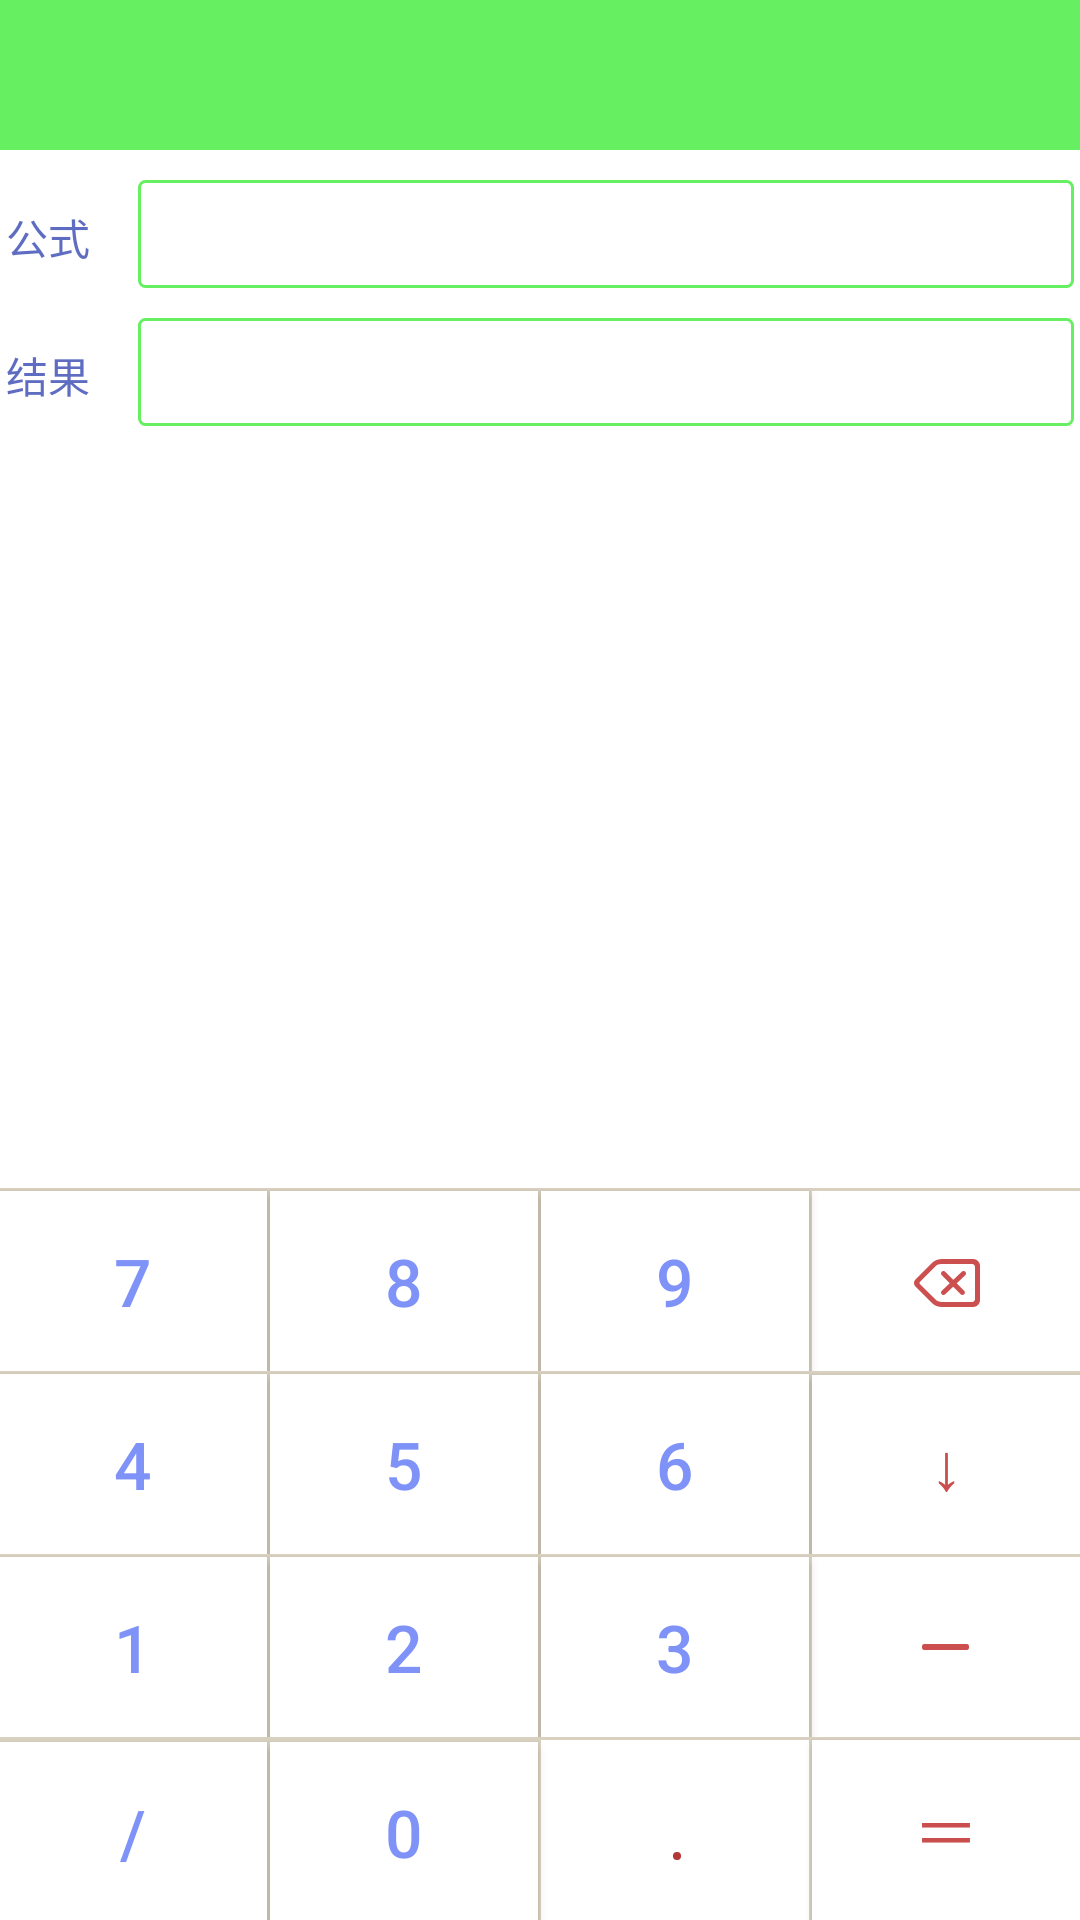

Where icons sit on this 1080x1920 app screen, as {"x1": x1, "y1": y1, "x2": x2, "y2": y2}:
pad del: {"x1": 914, "y1": 1259, "x2": 980, "y2": 1307}
